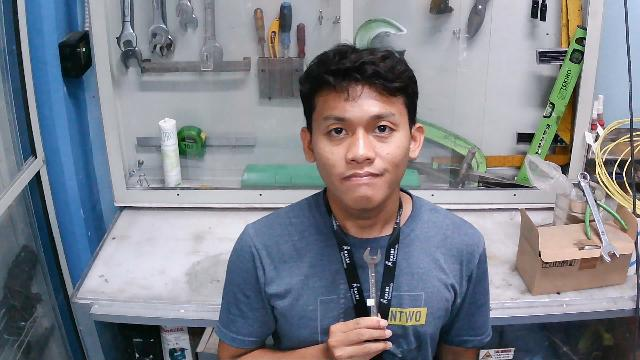kunci_pass_13: (355, 247, 396, 332)
